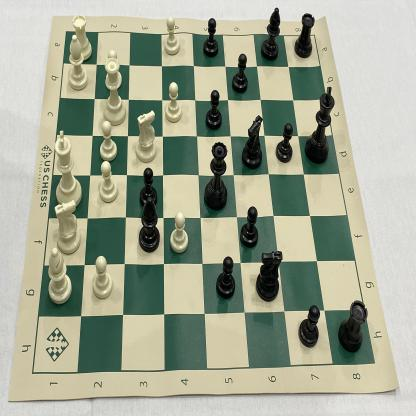black-bishop: (138, 195, 161, 253), (260, 4, 282, 61)
black-king: (305, 85, 336, 164)
black-knight: (256, 248, 284, 303), (242, 115, 264, 170)
black-pawn: (296, 304, 321, 350), (213, 255, 237, 301), (239, 204, 259, 250), (139, 165, 159, 210), (274, 122, 295, 164), (204, 88, 223, 130), (231, 52, 249, 93), (204, 16, 219, 59)
black-queen: (203, 138, 229, 211)
black-rook: (336, 298, 369, 354), (293, 11, 316, 60)
white-bishop: (45, 247, 73, 304), (66, 34, 88, 92)
white-king: (53, 129, 82, 209)
white-knight: (52, 199, 81, 255), (134, 110, 158, 164)
white-pawn: (90, 254, 114, 302), (97, 160, 118, 204), (97, 119, 118, 161), (164, 80, 183, 124), (170, 210, 189, 254), (163, 15, 181, 57), (105, 49, 123, 88)
white-queen: (99, 58, 129, 126)
white-rook: (71, 11, 93, 61)
